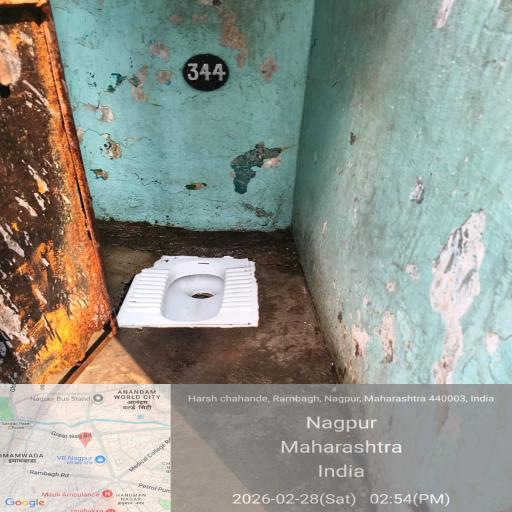dirty_floor: (77, 16, 437, 245), (106, 230, 382, 502), (0, 38, 110, 452)
partial_dirty_indian: (130, 257, 266, 342)
